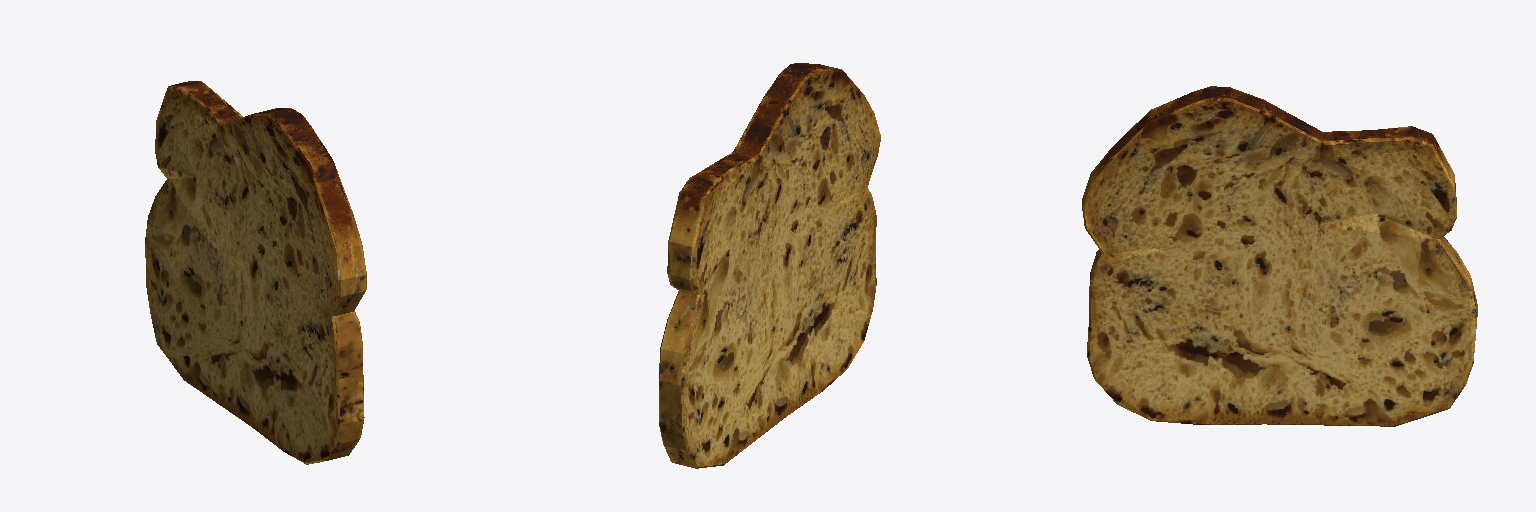
3 renders of one model, left to right at view 1: azimuth 30°, elevation 25°; view 2: azimuth 150°, elevation 25°; view 3: azimuth 270°, elevation 25°, orthographic.
Visible parts, largest first — view 1: BreadSlice2_OBJ:Mesh; view 2: BreadSlice2_OBJ:Mesh; view 3: BreadSlice2_OBJ:Mesh.
Boxes of the visible parts, x1=… form: BreadSlice2_OBJ:Mesh: x1=145, y1=81, x2=366, y2=464; BreadSlice2_OBJ:Mesh: x1=659, y1=63, x2=880, y2=468; BreadSlice2_OBJ:Mesh: x1=1082, y1=86, x2=1477, y2=426.
Size of the model in its own units: 1.58 by 16 by 17.46.
Materials: 1 (1 with a texture image).